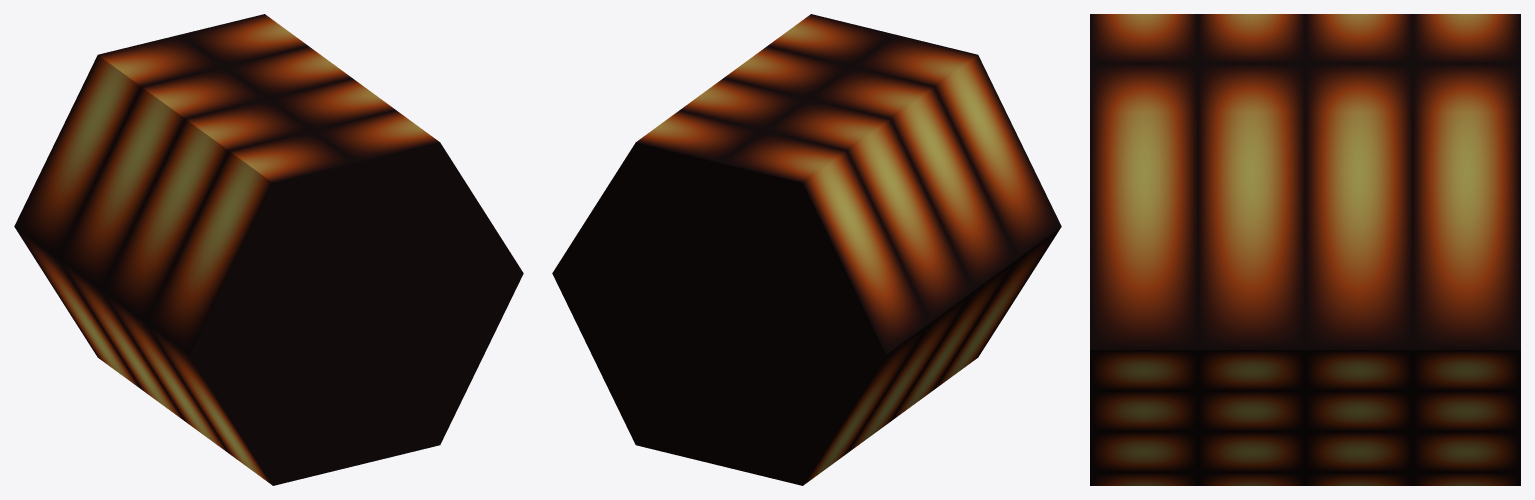
The model's file is hexprism-sunset.glb.
The picture shows the model from 3 angles, left to right: view 1: azimuth 30°, elevation 25°; view 2: azimuth 150°, elevation 25°; view 3: azimuth 270°, elevation 25°; orthographic projection. The views are drawn at different scales.
Visible parts, largest first — view 1: world; view 2: world; view 3: world.
Part boxes in pixels (x1,y1,x2,y2): world: [14, 14, 523, 485]; world: [552, 14, 1061, 485]; world: [1090, 14, 1520, 485].
Size of the model in its own units: 1.1 by 0.9526 by 1.
Materials: 1 (1 with a texture image).
